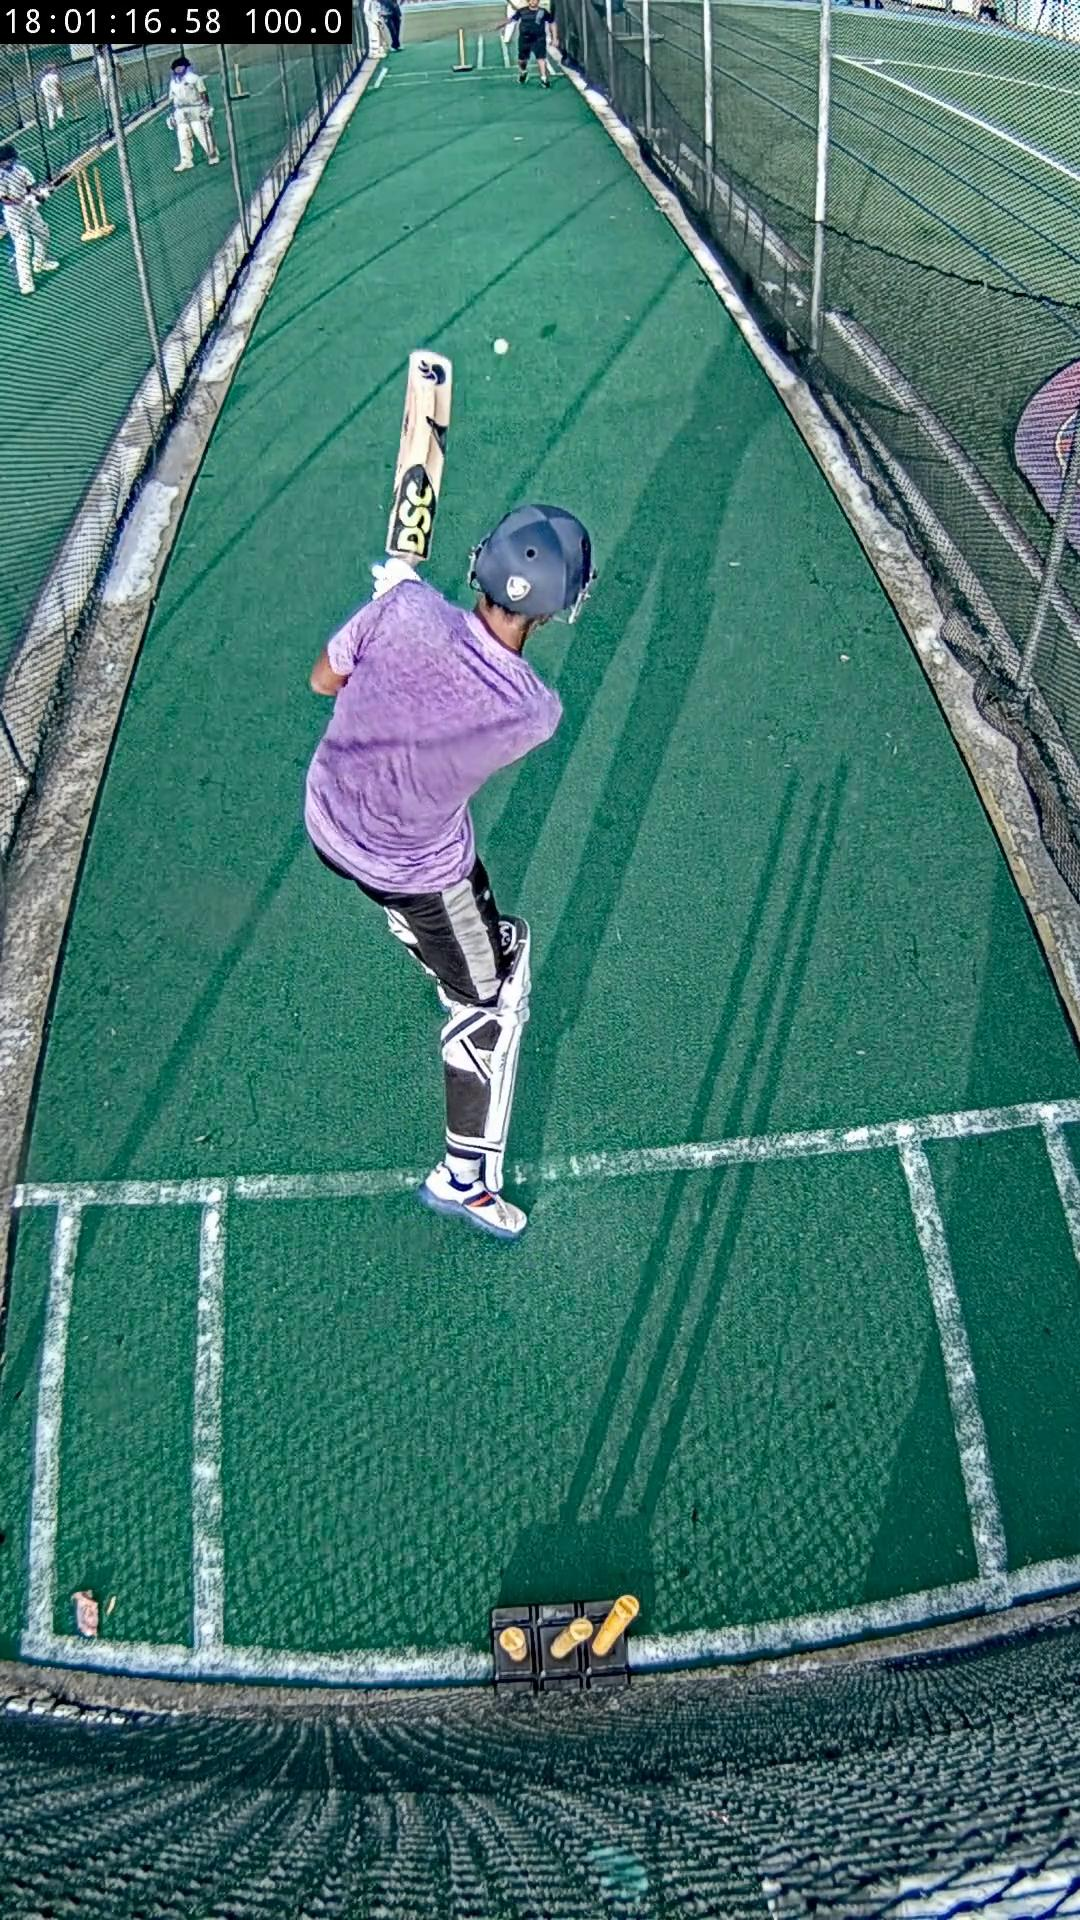ball: (492, 338, 510, 355)
bat: (386, 348, 454, 563)
gloves: (372, 559, 419, 600)
helmet: (468, 506, 592, 615)
pads: (484, 915, 533, 1192)
stumps: (492, 1594, 641, 1692)
